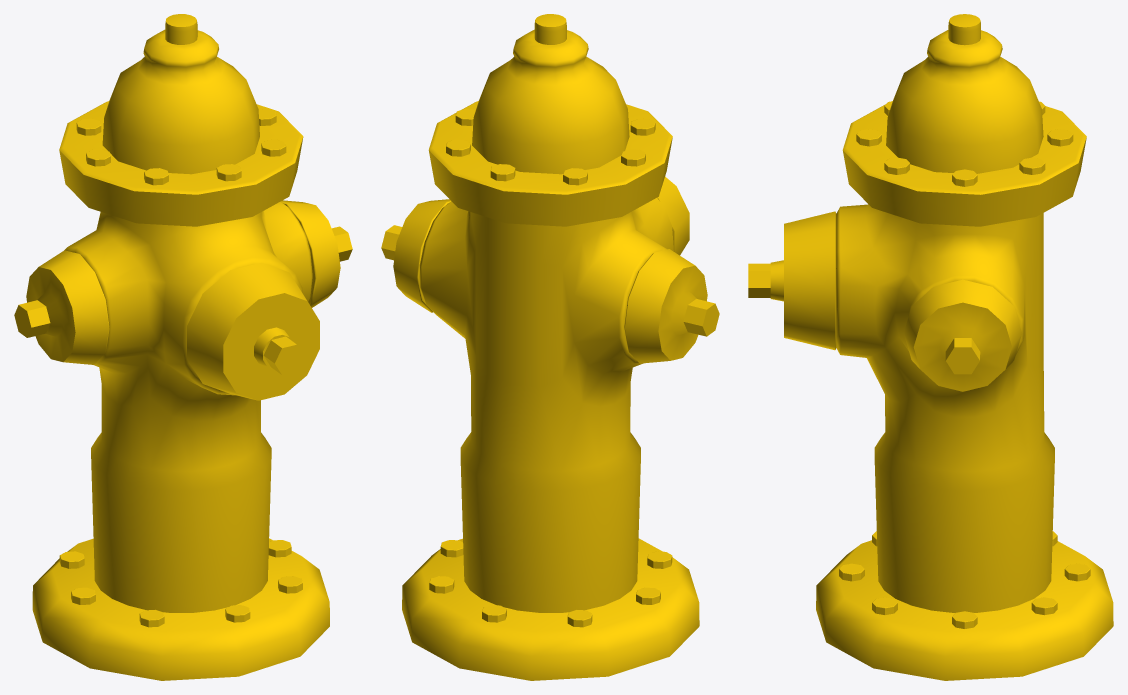
The model's file is Fire_Hydrant.fbx.
3 views of the same model, side by side, from view 1: azimuth 30°, elevation 25°; view 2: azimuth 150°, elevation 25°; view 3: azimuth 270°, elevation 25° (orthographic).
Parts seen in each view (by area): view 1: Fire_Hydrant; view 2: Fire_Hydrant; view 3: Fire_Hydrant.
Boxes of the visible parts, x1,y1,x2,y2 form: Fire_Hydrant: (14, 14, 352, 680); Fire_Hydrant: (381, 14, 719, 680); Fire_Hydrant: (748, 14, 1113, 680).
Bounding box in the file's own units: 8.44 × 15.04 × 8.3.
